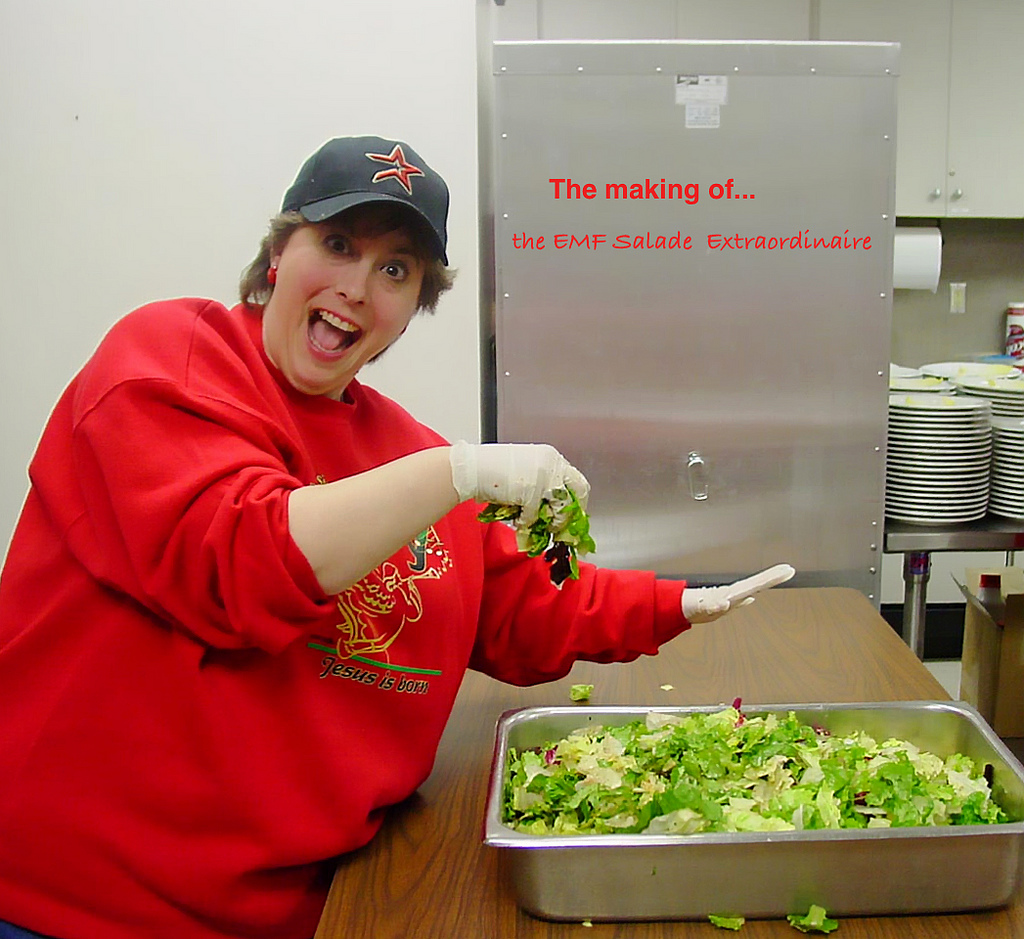chopped lettuce: (509, 714, 1000, 840), (491, 493, 597, 570)
